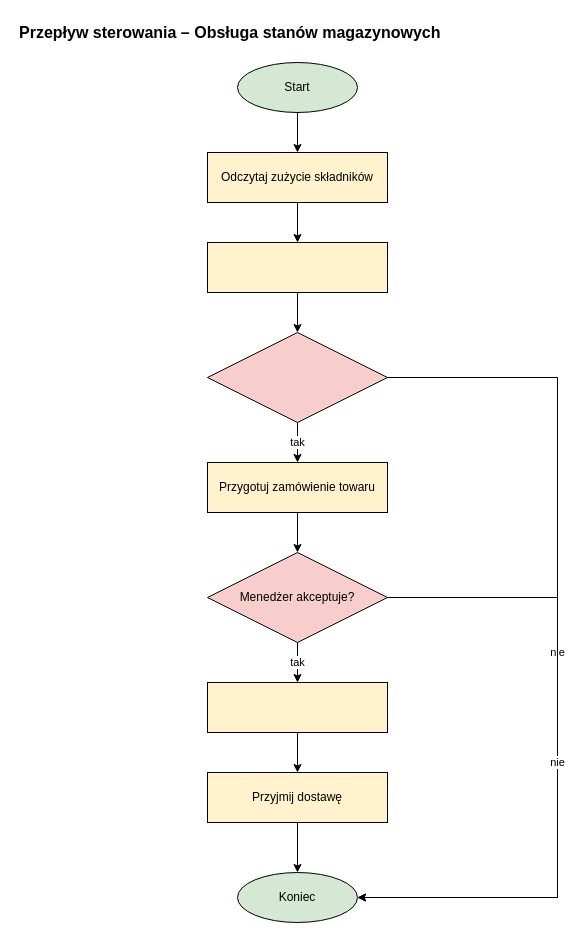
Some shapes in this 583 by 940 pixel diagram are drawn without their labels. Here are the shapes that lost their labels. From the top down, the box of each, then its label:
(206, 242, 388, 292): Zaktualizuj stany
(206, 332, 388, 422): Stan poniżej minimum?
(206, 682, 388, 732): Wyślij zamówienie do dostawcy
